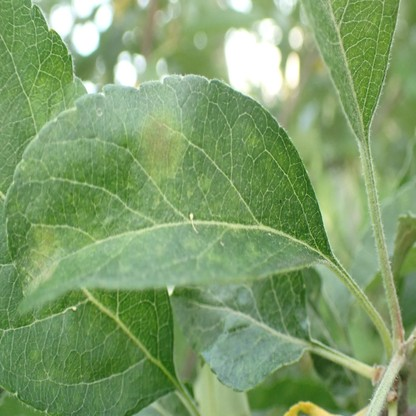scab: (140, 117, 181, 179), (30, 226, 59, 291), (242, 118, 261, 148), (198, 174, 210, 192), (246, 240, 254, 251)
